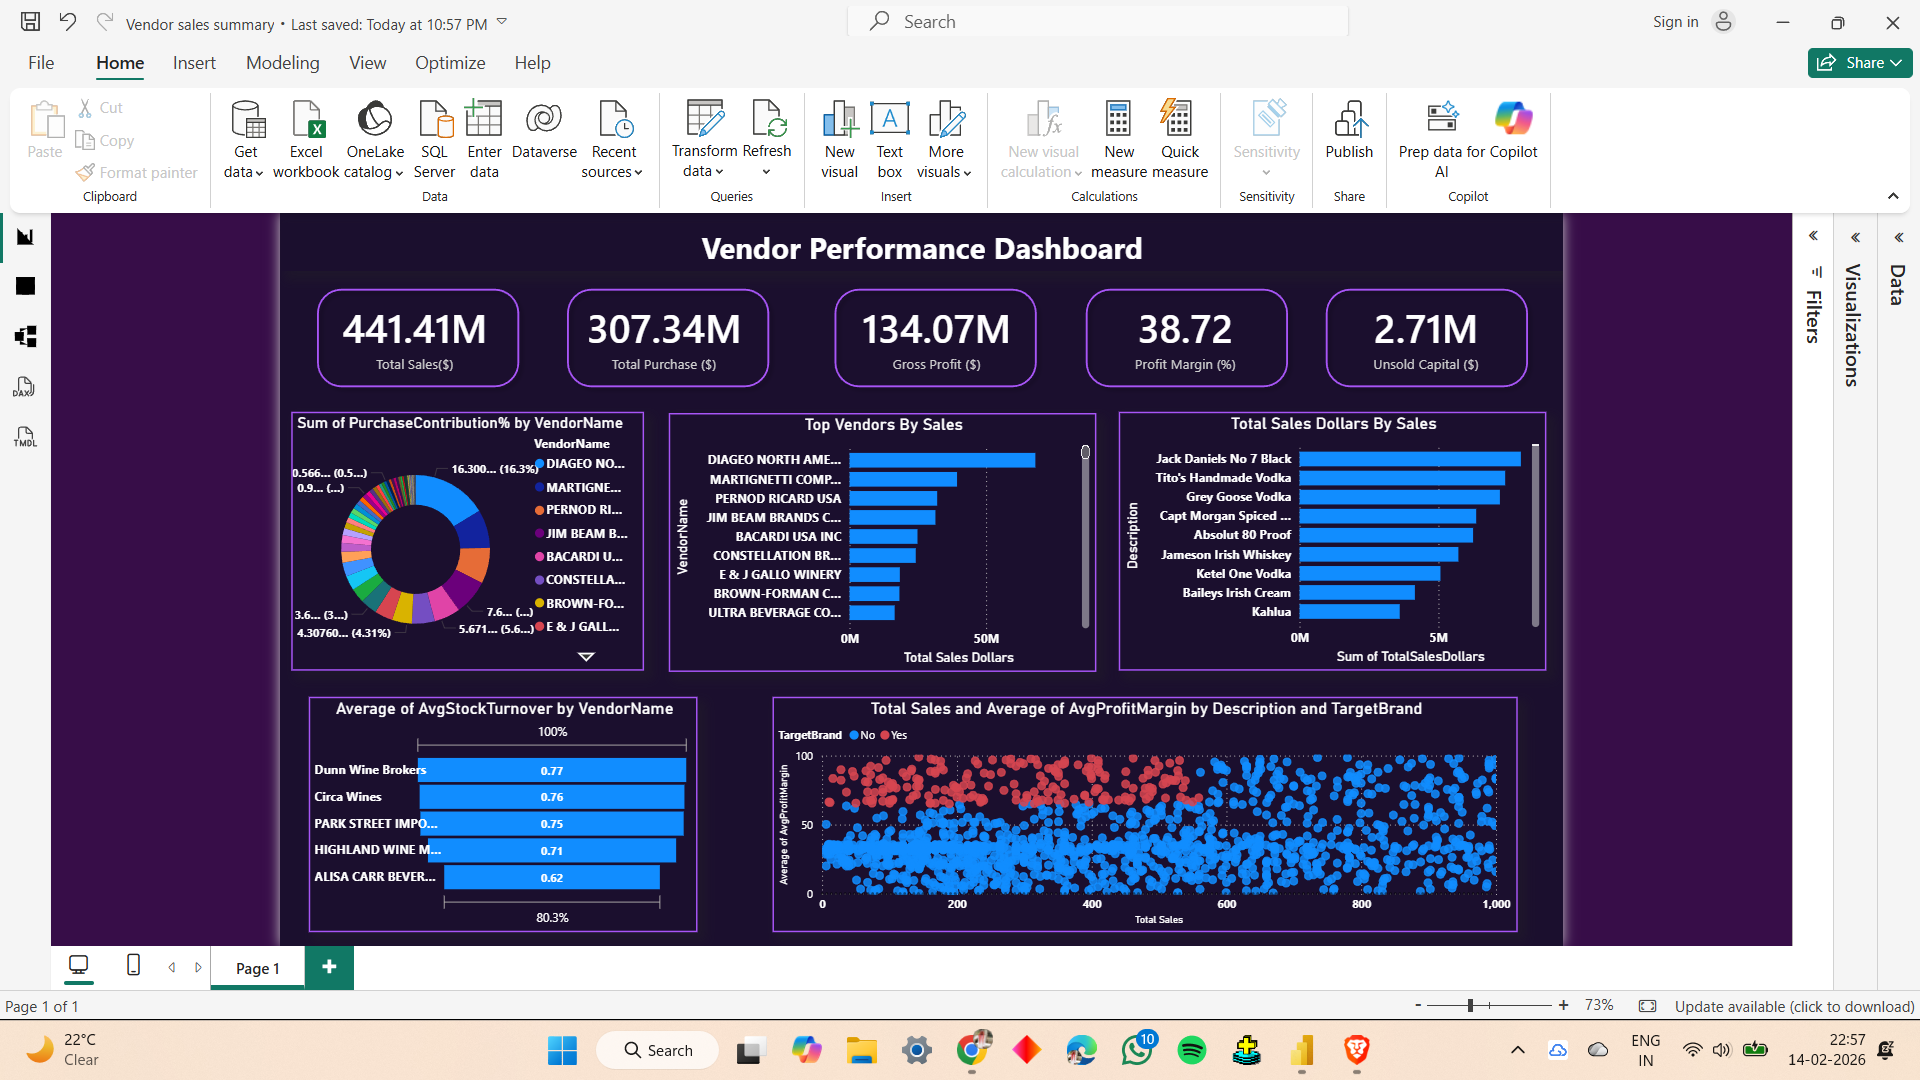

What the dashboard file says about the page in this screenshot:
{"tool":"powerbi","page":{"name":"Page 1","canvas":[1400,800],"ordinal":0},"visuals":[{"type":"card","fields":{"Values":["vendor_sales_summary.TotalSalesDollars"]},"box":[28.6,73.6,237.2,122.7],"z":0},{"type":"card","fields":{"Values":["vendor_sales_summary.TotalPurchaseDollars"]},"box":[301.3,73.6,235.9,122.7],"z":1000},{"type":"card","fields":{"Values":["vendor_sales_summary.GrossProfit"]},"box":[598.5,73.6,235.9,122.7],"z":2000},{"type":"card","fields":{"Values":["vendor_sales_summary.ProfitMargin"]},"box":[869.8,73.6,235.9,122.7],"z":3000},{"type":"textbox","box":[1.4,10.9,1398.8,53.2],"z":4000},{"type":"card","fields":{"Values":["vendor_sales_summary.UnsoldCapital"]},"box":[1131.6,73.6,237.2,122.7],"z":5000},{"type":"donutChart","fields":{"Category":["PurchaseContribution.VendorName"],"Y":["PurchaseContribution.PurchaseContribution%"]},"box":[12.3,216.8,384.5,282.2],"z":6000},{"type":"barChart","title":"Top Vendors By Sales","fields":{"Category":["vendor_sales_summary.VendorName"],"Y":["vendor_sales_summary.TotalSalesDollars"]},"box":[424,218.1,466.3,282.2],"z":7000},{"type":"barChart","title":"Total Sales Dollars By Sales","fields":{"Category":["vendor_sales_summary.Description"],"Y":["vendor_sales_summary.TotalSalesDollars"]},"box":[914.8,216.8,466.3,282.2],"z":8000},{"type":"funnel","fields":{"Category":["LowTurnoverVendor.VendorName"],"Y":["LowTurnoverVendor.AvgStockTurnover"]},"box":[31.8,528,424.3,257.1],"z":9000},{"type":"scatterChart","fields":{"Category":["BrandPerformance.Description"],"X":["BrandPerformance.TotalSales"],"Y":["BrandPerformance.AvgProfitMargin"],"Series":["BrandPerformance.TargetBrand"]},"box":[537.7,528,812.7,257.1],"z":10000},{"type":"shape","box":[31.4,73.6,238.6,125.4],"z":11000},{"type":"shape","box":[1131.6,73.6,238.6,125.4],"z":12000},{"type":"shape","box":[595.8,73.6,238.6,125.4],"z":13000},{"type":"shape","box":[304,73.6,238.6,125.4],"z":14000},{"type":"shape","box":[869.8,73.6,238.6,125.4],"z":15000}]}

Visuals, with their boxes on the page's 1400x800 design canvas (x1, y1, x2, y2). These are canvas units, not pixel positions in the 1920x1080 screenshot, which may show the page scaled, cropped or inside an application window:
card - vendor_sales_summary.TotalSalesDollars: 29,74,266,196
card - vendor_sales_summary.TotalPurchaseDollars: 301,74,537,196
card - vendor_sales_summary.GrossProfit: 598,74,834,196
card - vendor_sales_summary.ProfitMargin: 870,74,1106,196
textbox: 1,11,1400,64
card - vendor_sales_summary.UnsoldCapital: 1132,74,1369,196
donutChart - PurchaseContribution.VendorName x PurchaseContribution.PurchaseContribution%: 12,217,397,499
"Top Vendors By Sales" barChart: 424,218,890,500
"Total Sales Dollars By Sales" barChart: 915,217,1381,499
funnel - LowTurnoverVendor.VendorName x LowTurnoverVendor.AvgStockTurnover: 32,528,456,785
scatterChart - BrandPerformance.Description x BrandPerformance.TotalSales: 538,528,1350,785
shape: 31,74,270,199
shape: 1132,74,1370,199
shape: 596,74,834,199
shape: 304,74,543,199
shape: 870,74,1108,199
